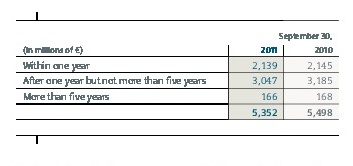table: (0, 0, 353, 166)
